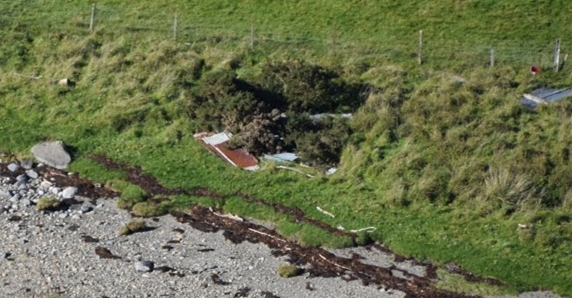cuboid: (196, 127, 264, 174)
white_in_green: (253, 127, 310, 179), (515, 48, 553, 87)
